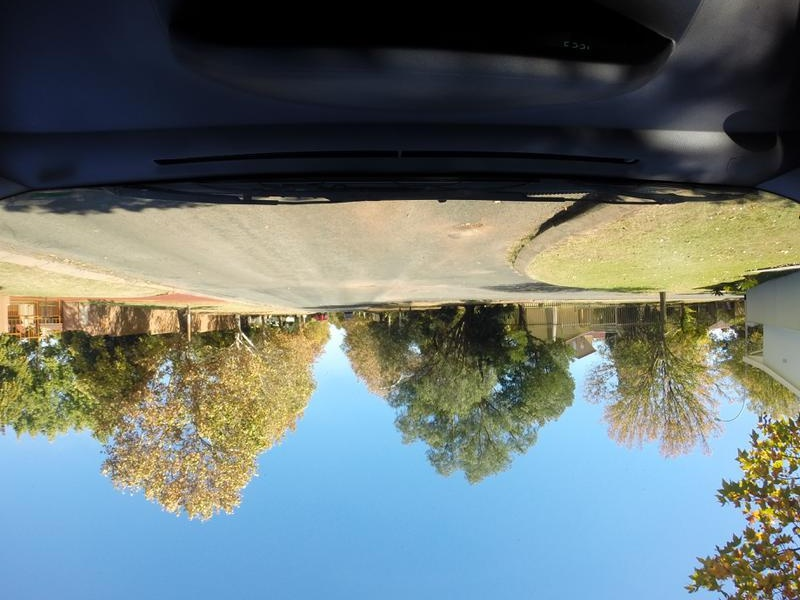pothole: (448, 213, 487, 242)
